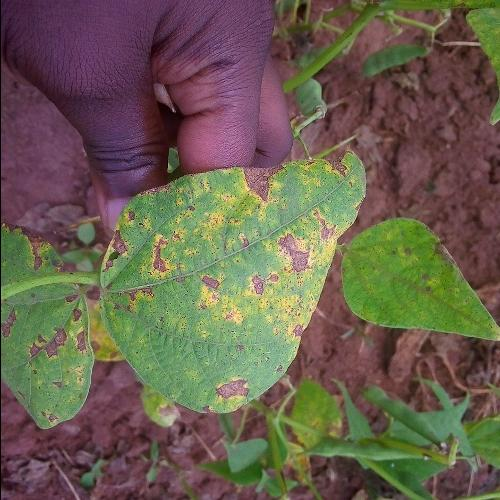mozaik: (60, 172, 336, 412)
